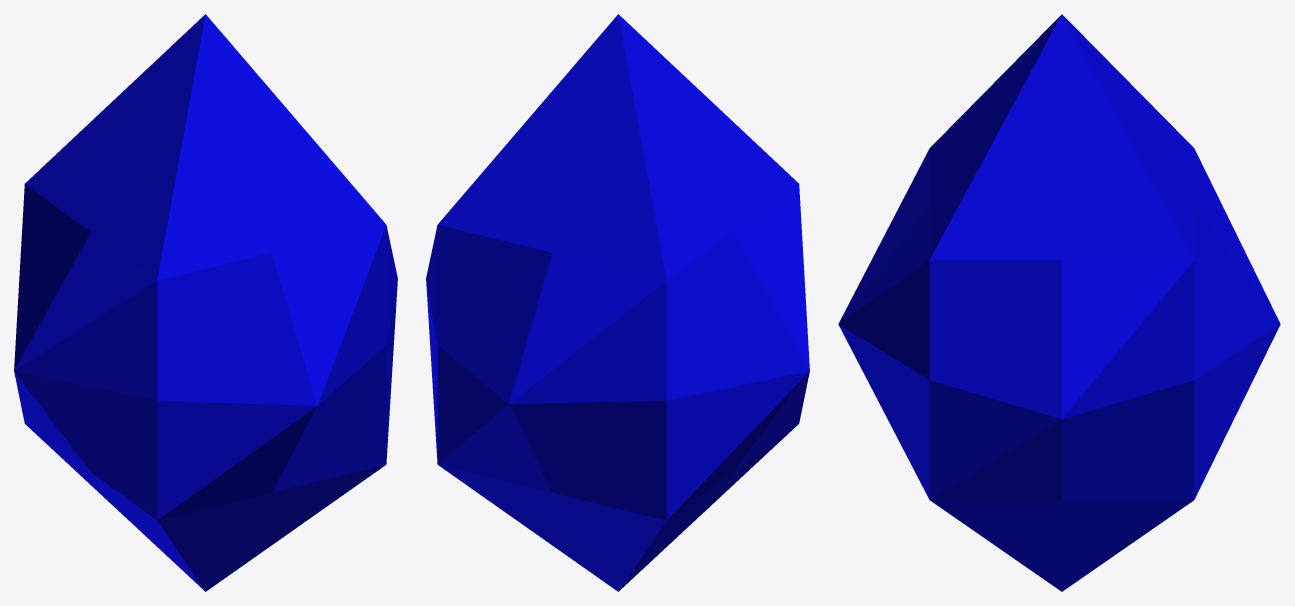
File: Gem.fbx
The picture shows the model from 3 angles, left to right: view 1: azimuth 30°, elevation 25°; view 2: azimuth 150°, elevation 25°; view 3: azimuth 270°, elevation 25°; orthographic projection.
Parts seen in each view (by area): view 1: Cube; view 2: Cube; view 3: Cube.
Part boxes in pixels (x1,y1,x2,y2): Cube: (14,14,397,591); Cube: (426,14,809,591); Cube: (838,14,1280,591).
Size of the model in its own units: 335 by 482 by 334.
